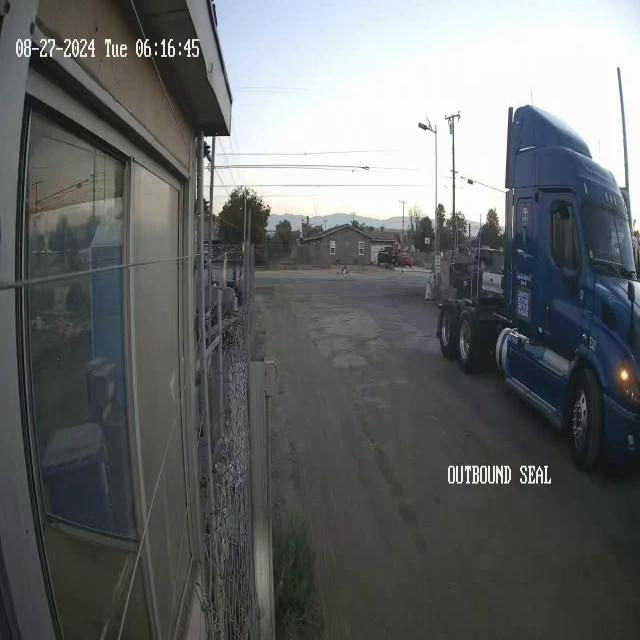TRUCK_IN: (436, 100, 639, 473)
